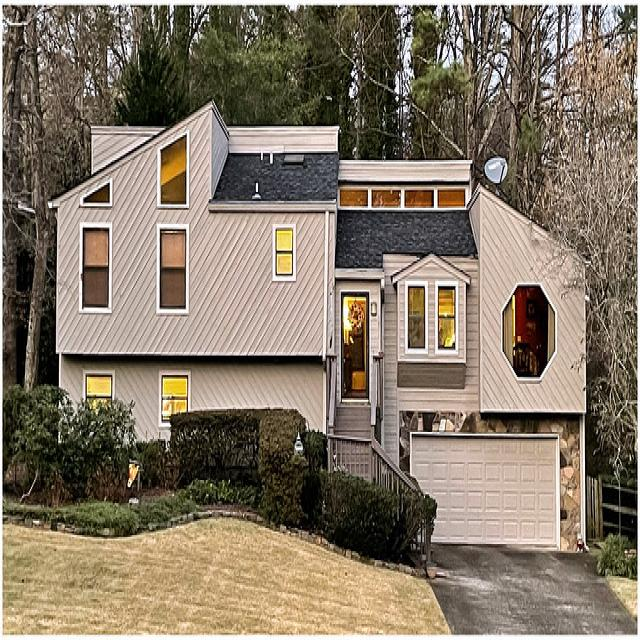Normal_building: (46, 106, 591, 556)
